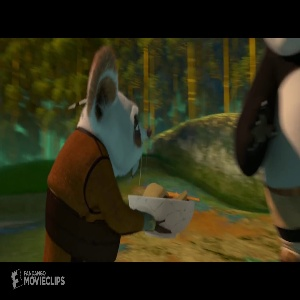po: (233, 36, 300, 261)
shifu: (41, 44, 174, 262)
